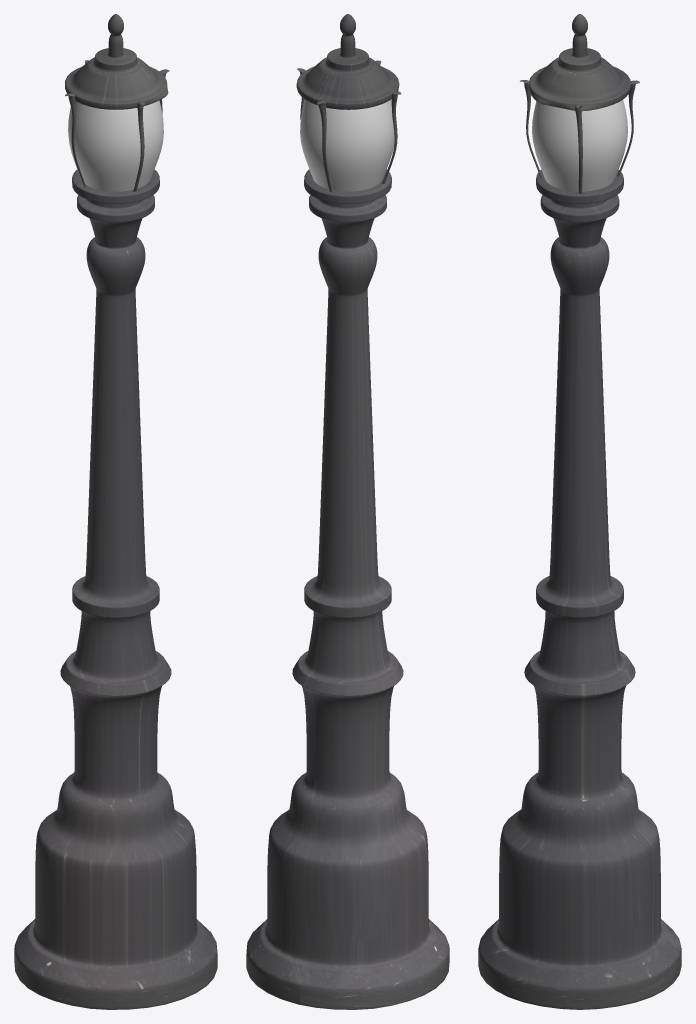
Rendered from LampPost.fbx.
3 views of the same model, side by side, from view 1: azimuth 30°, elevation 25°; view 2: azimuth 150°, elevation 25°; view 3: azimuth 270°, elevation 25° (orthographic).
Parts seen in each view (by area): view 1: Cylinder; view 2: Cylinder; view 3: Cylinder.
Boxes of the visible parts, bbox=[...] form: Cylinder: bbox=[14, 14, 217, 1009]; Cylinder: bbox=[246, 14, 449, 1009]; Cylinder: bbox=[478, 14, 681, 1009].
Size of the model in its own units: 98.26 by 510 by 98.26.
2 materials, 1 textured.
